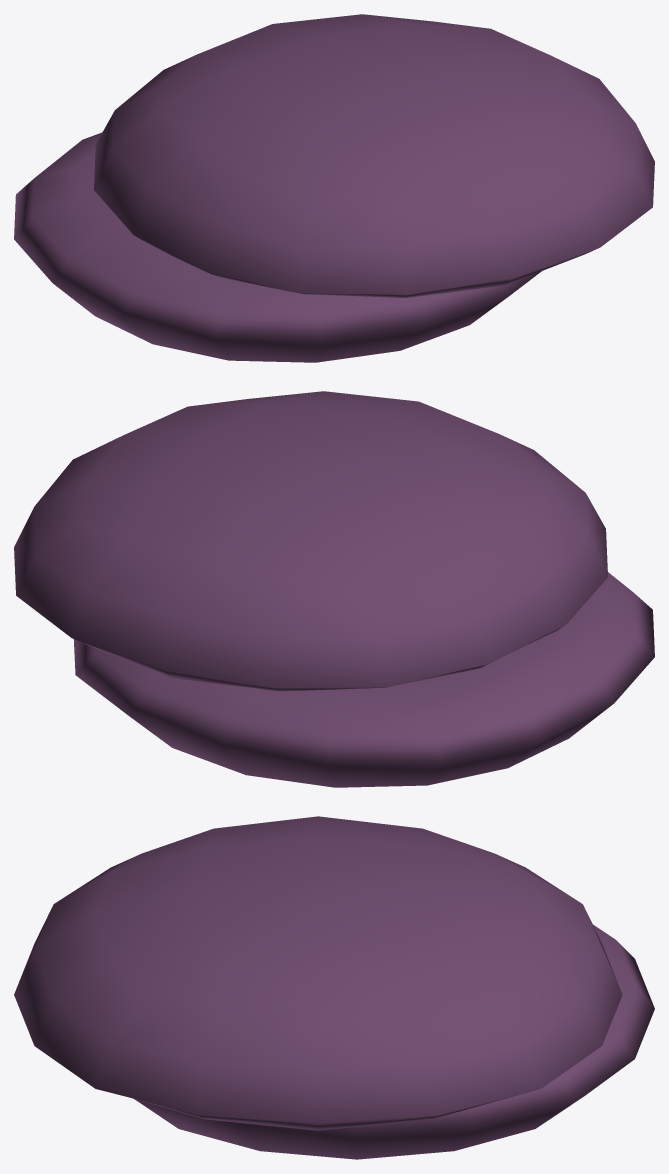
Rendered from buns.fbx.
3 renders of one model, top to bottom at view 1: azimuth 30°, elevation 25°; view 2: azimuth 150°, elevation 25°; view 3: azimuth 270°, elevation 25°, orthographic. The views are drawn at different scales.
Parts seen in each view (by area): view 1: buns; view 2: buns; view 3: buns.
Part boxes in pixels (box(x1,y1,x2,y2)): buns: box(14, 14, 654, 362); buns: box(14, 391, 654, 787); buns: box(14, 816, 654, 1159).
Bounding box in the file's own units: 0.1921 × 0.0698 × 0.179.
